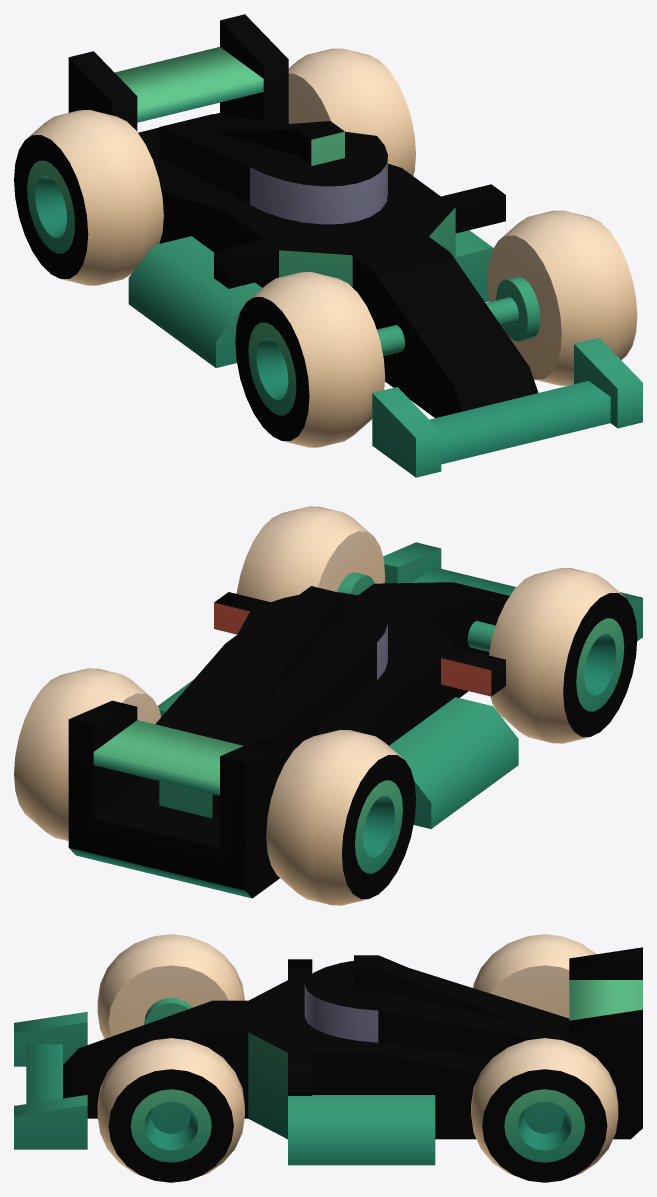
File: race.glb
3 renders of one model, top to bottom at view 1: azimuth 30°, elevation 25°; view 2: azimuth 150°, elevation 25°; view 3: azimuth 270°, elevation 25°, orthographic. The views are drawn at different scales.
Visible parts, largest first — view 1: body, wheel-back-right, wheel-front-right, wheel-front-left, wheel-back-left; view 2: body, wheel-back-right, wheel-front-right, wheel-back-left, wheel-front-left; view 3: body, wheel-back-left, wheel-front-left, wheel-front-right, wheel-back-right.
Part boxes in pixels (bbox=[...]): body: bbox=[68, 14, 642, 477]; wheel-back-right: bbox=[14, 110, 163, 285]; wheel-front-right: bbox=[235, 272, 385, 447]; wheel-front-left: bbox=[487, 210, 637, 385]; wheel-back-left: bbox=[288, 48, 415, 175]; body: bbox=[68, 542, 642, 898]; wheel-back-right: bbox=[266, 730, 415, 905]; wheel-front-right: bbox=[489, 568, 637, 743]; wheel-back-left: bbox=[14, 668, 161, 840]; wheel-front-left: bbox=[236, 506, 385, 602]; body: bbox=[14, 947, 642, 1165]; wheel-back-left: bbox=[471, 1038, 618, 1182]; wheel-front-left: bbox=[97, 1038, 244, 1182]; wheel-front-right: bbox=[97, 934, 244, 1038]; wheel-back-right: bbox=[473, 934, 596, 1018].
Bounding box in the file's own units: 1.3 × 0.7325 × 2.56.
1 material, 1 textured.
